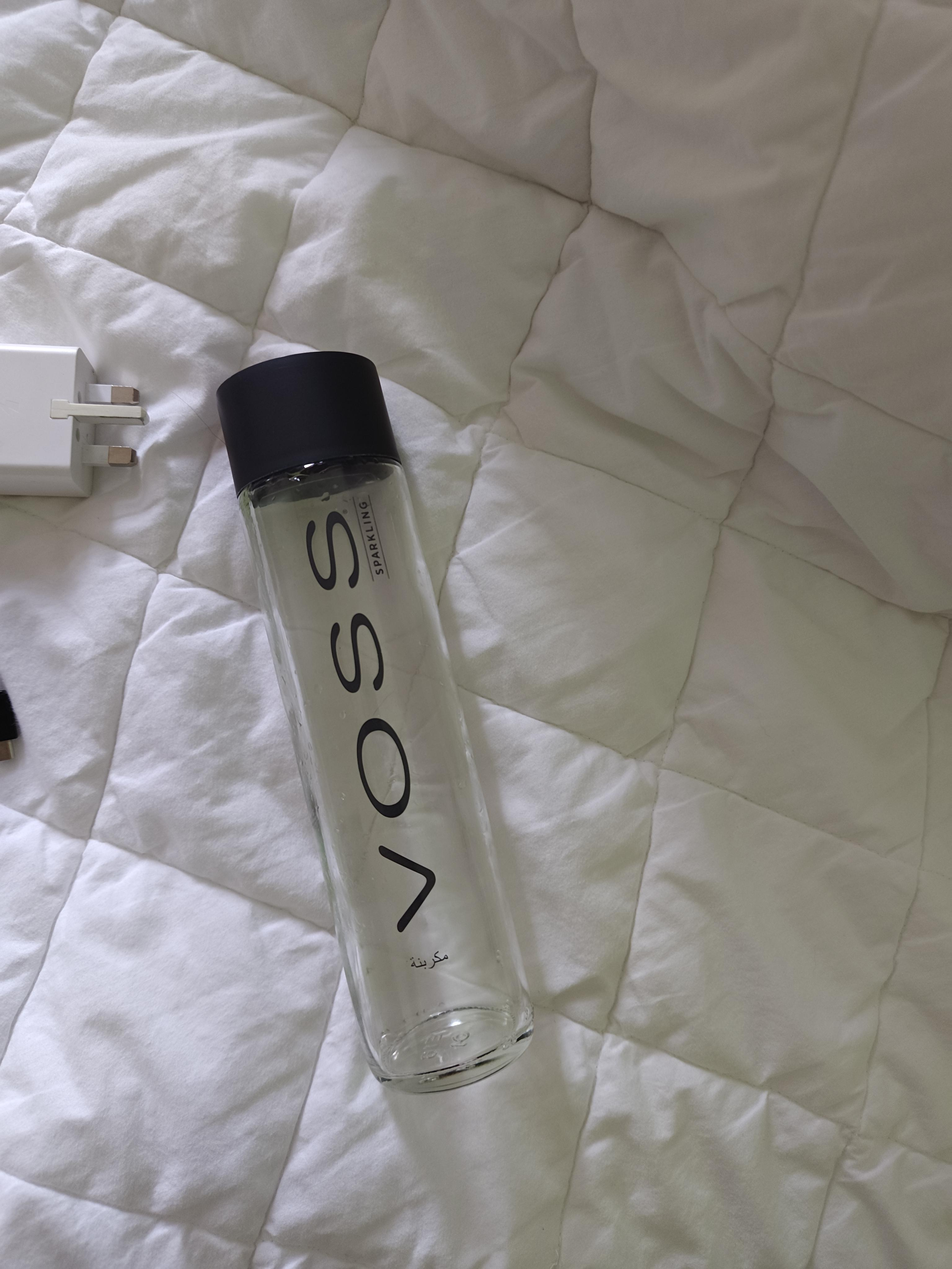bottle: (216, 351, 534, 1095)
